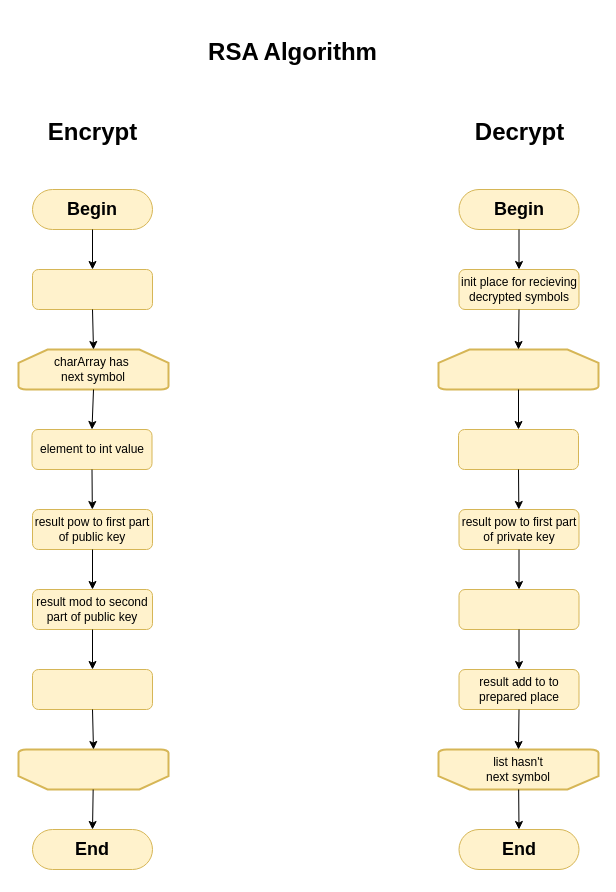
Image size: 616x892. Some labels were removed from this diagram. Each missing label, with the box of its shape:
charArray hasn't next symbol: (17, 748, 169, 790)
list has next symbol: (437, 348, 599, 390)
parse element to int value: (458, 428, 578, 470)
result add to list: (32, 668, 152, 710)
result mod to second part of private key: (458, 588, 579, 630)
String to charArray: (32, 268, 152, 310)
